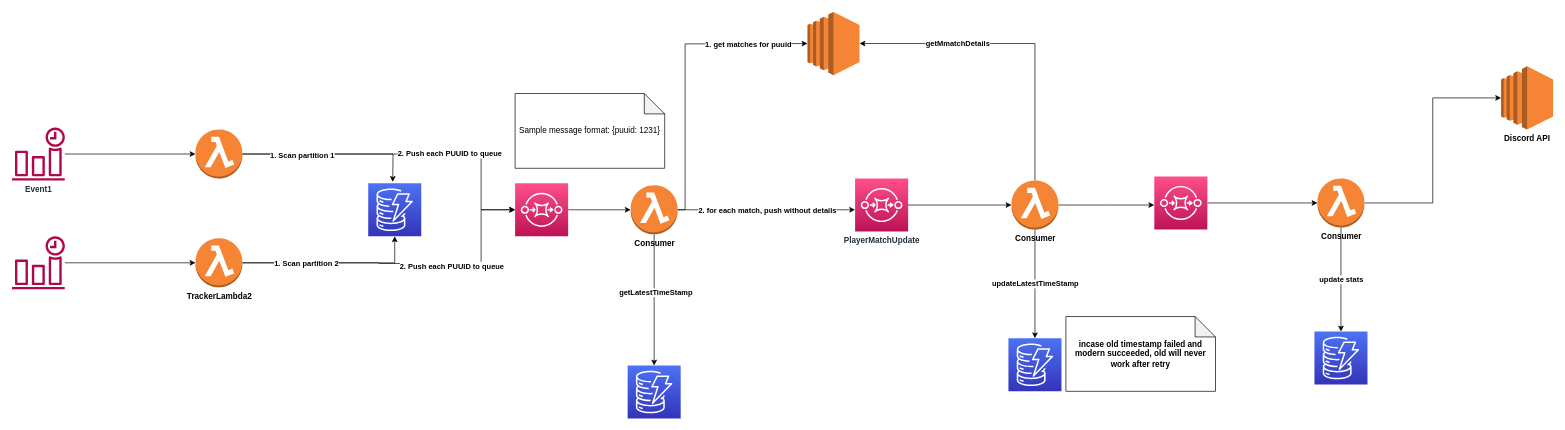
The diagram is 1565 pixels wide and 430 high, and some of its shapes have lost their labels. The centre of each missing label's shape, as x and y in pixels:
"Event2" belongs at pixel 38 262.
"PlayerMatchInfo.fifo" belongs at pixel 1180 203.
"PlayersTrack" belongs at pixel 541 209.
"RIOT APIs" belongs at pixel 833 43.
"TrackerLambda1" belongs at pixel 218 153.
